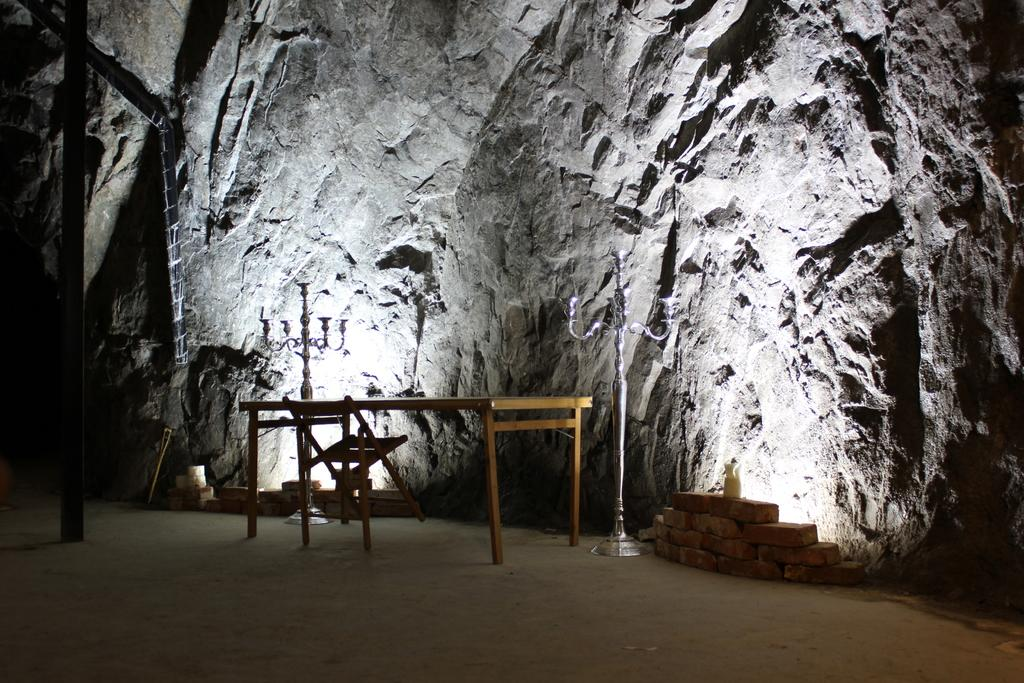Chair: (273, 410, 427, 545)
